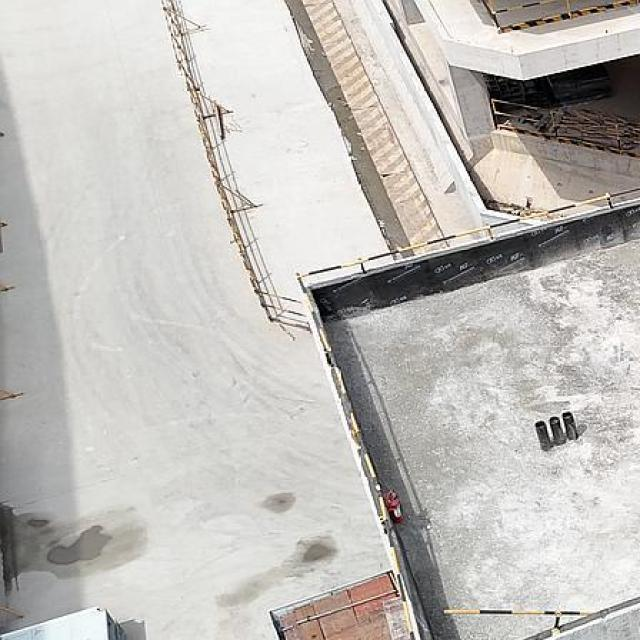edge_guardrail: (293, 183, 640, 640), (491, 98, 640, 155), (480, 0, 636, 34), (444, 608, 589, 628)
